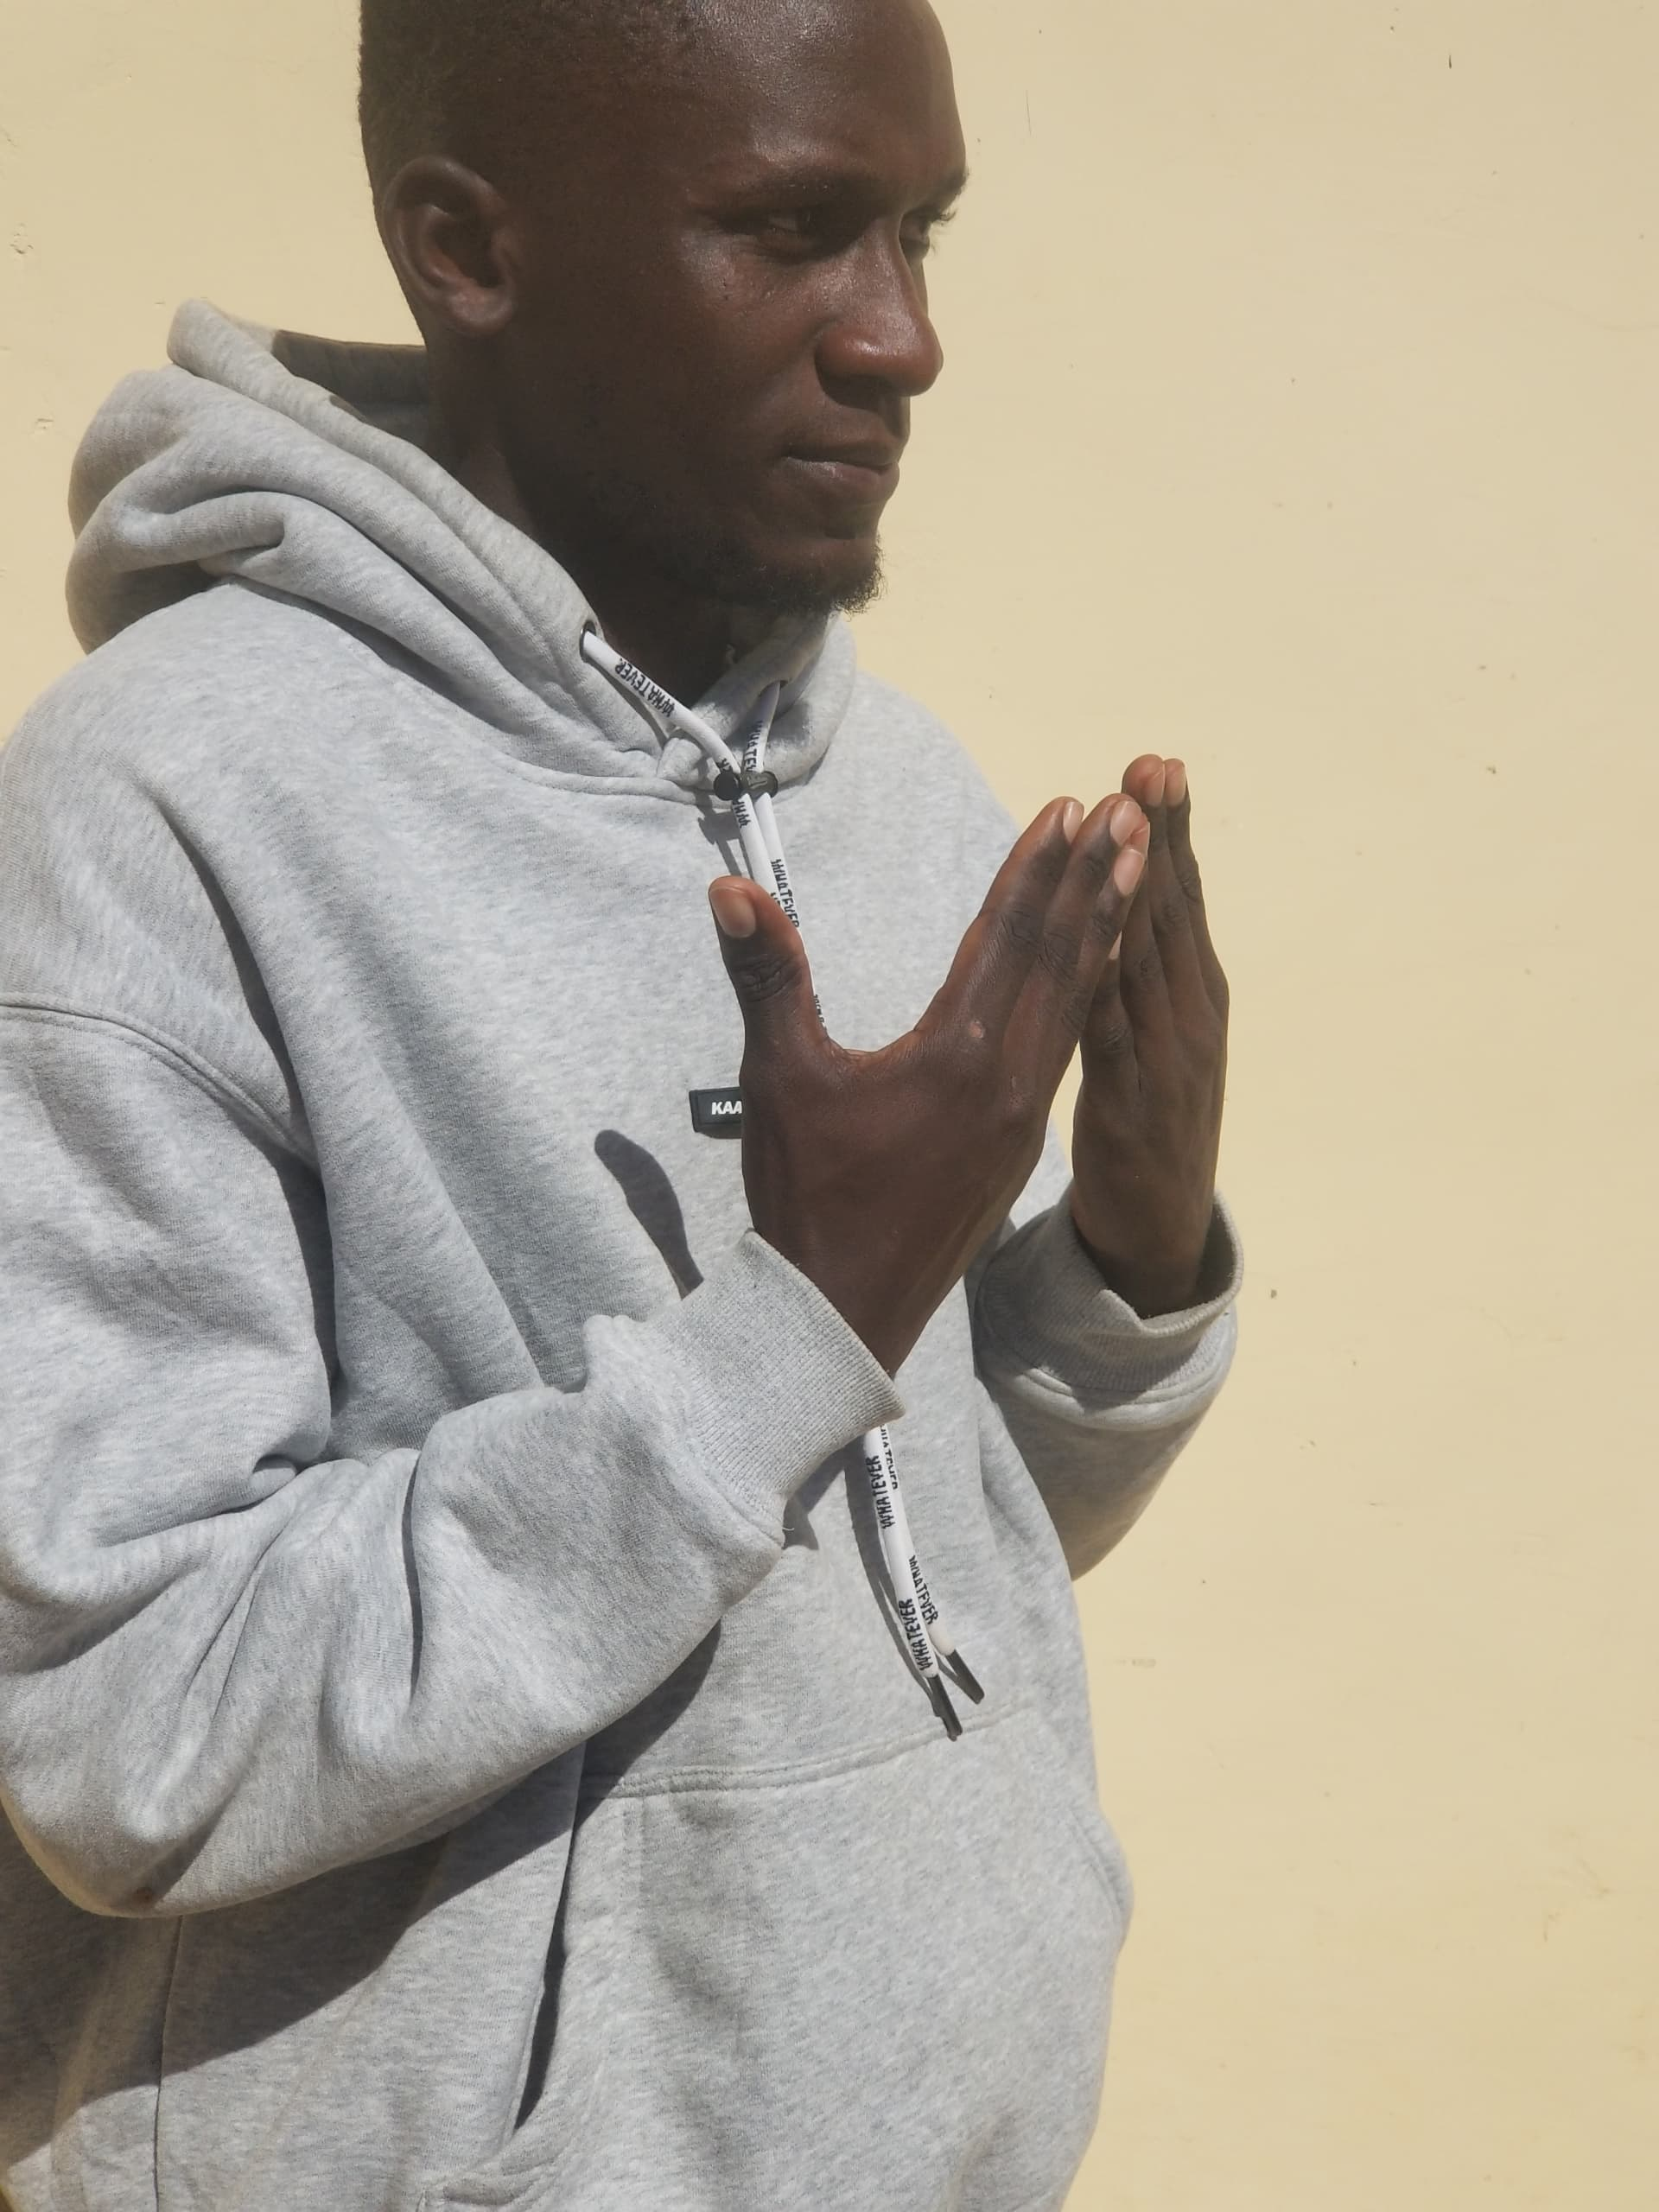thankyou: (619, 718, 1331, 1331)
